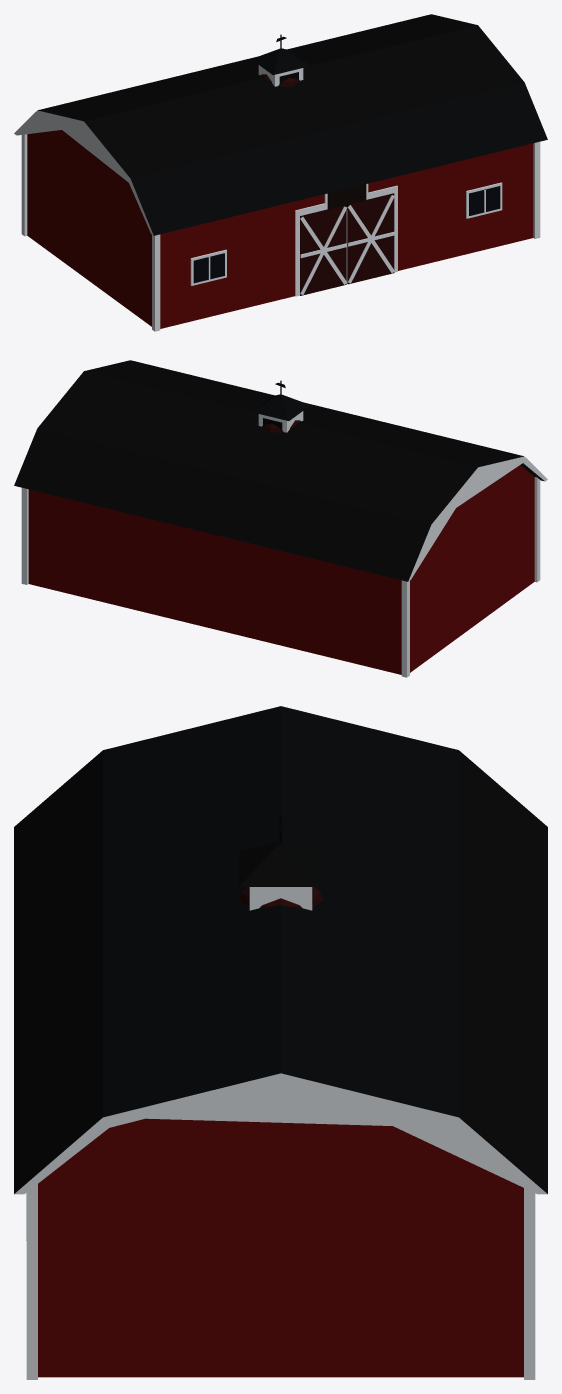
Rendered from farm_kit.glb.
The picture shows the model from 3 angles, top to bottom: view 1: azimuth 30°, elevation 25°; view 2: azimuth 150°, elevation 25°; view 3: azimuth 270°, elevation 25°; orthographic projection. The views are drawn at different scales.
Visible parts, largest first — view 1: SM_Barn; view 2: SM_Barn; view 3: SM_Barn.
Boxes of the visible parts, x1,y1,x2,y2 form: SM_Barn: [14, 14, 547, 331]; SM_Barn: [14, 360, 547, 677]; SM_Barn: [14, 706, 547, 1379].
Bounding box in the file's own units: 16.6 × 10.44 × 10.2.
7 materials, 7 textured.
